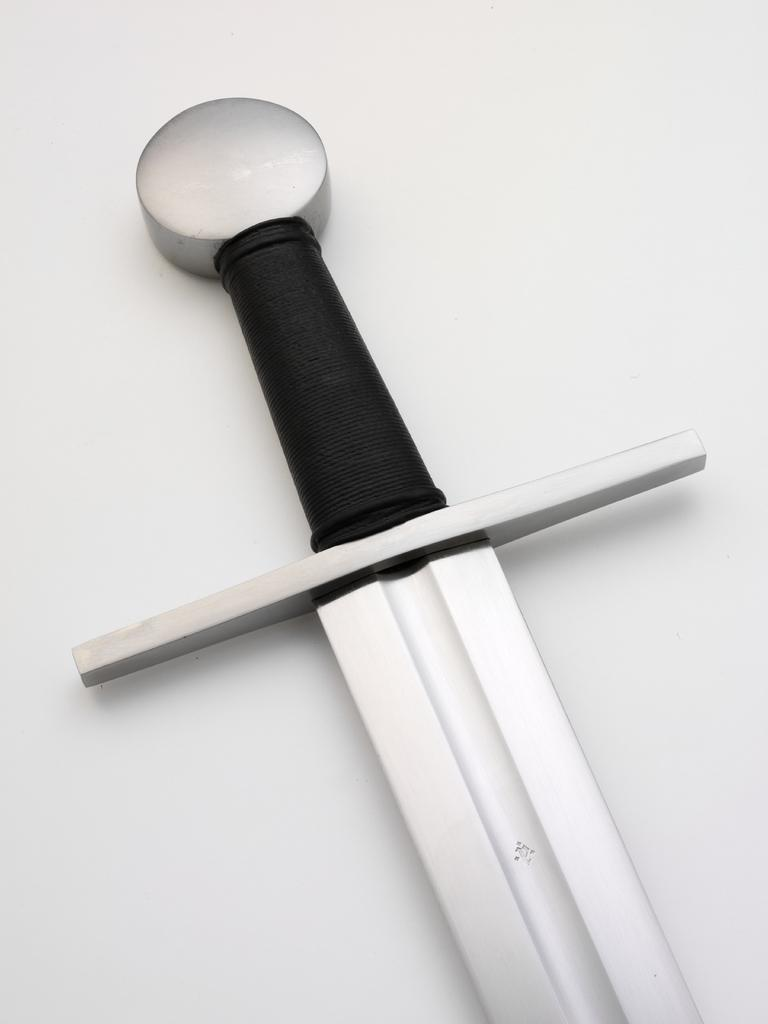Sword: (71, 95, 706, 1023), (74, 95, 707, 1023)
